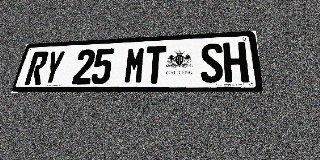2: (72, 49, 96, 84)
5: (90, 48, 114, 84)
H: (223, 42, 249, 82)
M: (123, 46, 146, 84)
R: (24, 51, 49, 85)
S: (200, 43, 224, 83)
T: (144, 46, 166, 84)
Y: (41, 50, 66, 85)
